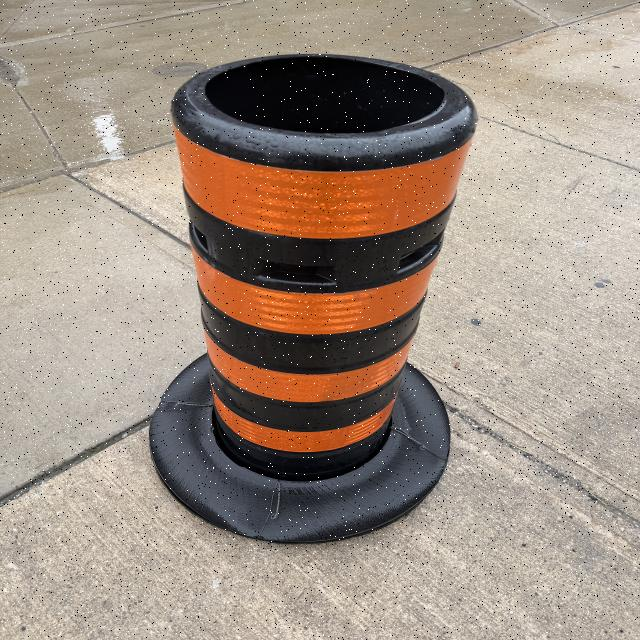Teraffic Barrel: (150, 55, 476, 542)
